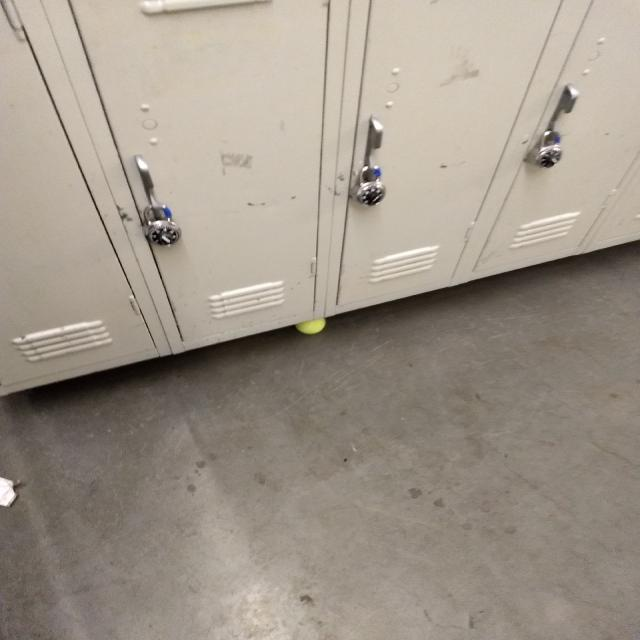Tennis-Ball: (296, 316, 327, 334)
